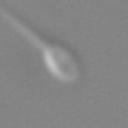normal: (1, 7, 48, 50)
